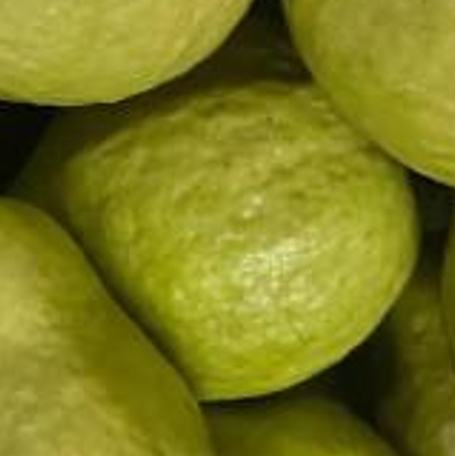guava_B: (9, 18, 422, 402)
